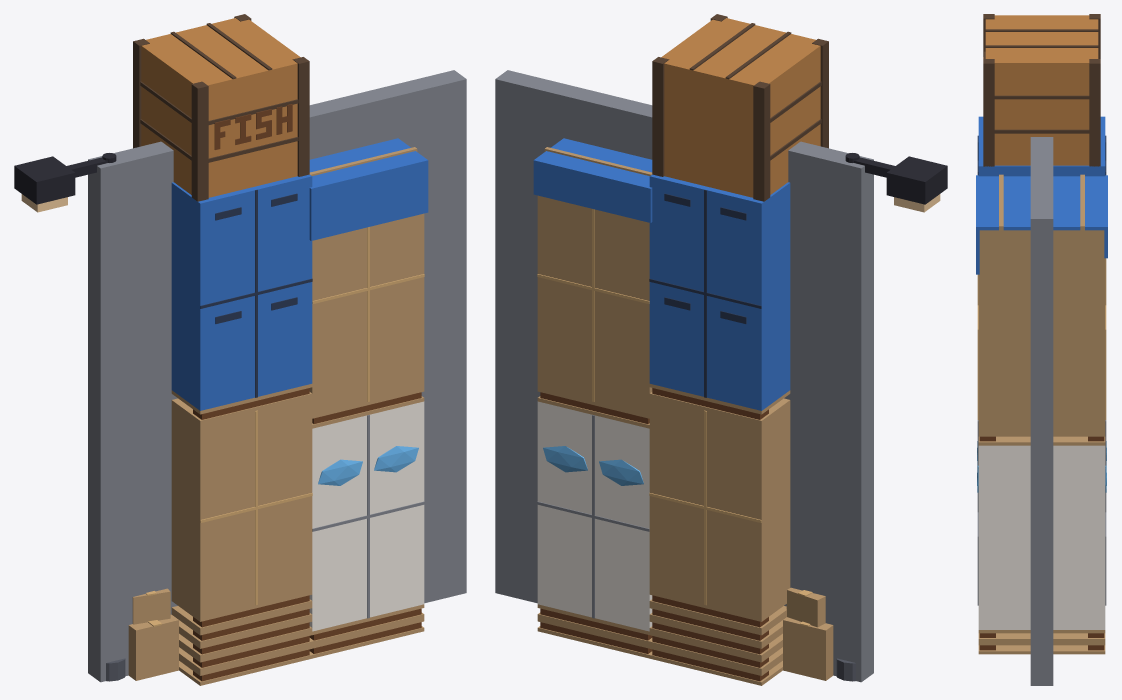
File: CatCafe_Alley_Blocker_PalletsShort.glb
3 views of the same model, side by side, from view 1: azimuth 30°, elevation 25°; view 2: azimuth 150°, elevation 25°; view 3: azimuth 270°, elevation 25° (orthographic). The views are drawn at different scales.
Parts seen in each view (by area): view 1: CatCafe_Alley_Blocker_PalletsShort, CatCafe_Alley_Blocker_PalletsShort_Barrier; view 2: CatCafe_Alley_Blocker_PalletsShort, CatCafe_Alley_Blocker_PalletsShort_Barrier; view 3: CatCafe_Alley_Blocker_PalletsShort, CatCafe_Alley_Blocker_PalletsShort_Barrier.
Part boxes in pixels (x1,y1,x2,y2): CatCafe_Alley_Blocker_PalletsShort: (14, 14, 428, 685); CatCafe_Alley_Blocker_PalletsShort_Barrier: (88, 70, 466, 682); CatCafe_Alley_Blocker_PalletsShort: (533, 14, 947, 685); CatCafe_Alley_Blocker_PalletsShort_Barrier: (495, 70, 873, 682); CatCafe_Alley_Blocker_PalletsShort: (976, 14, 1107, 654); CatCafe_Alley_Blocker_PalletsShort_Barrier: (1030, 137, 1053, 685).
Size of the model in its own units: 10.1 by 13.23 by 2.92.
Materials: 1 (1 with a texture image).
